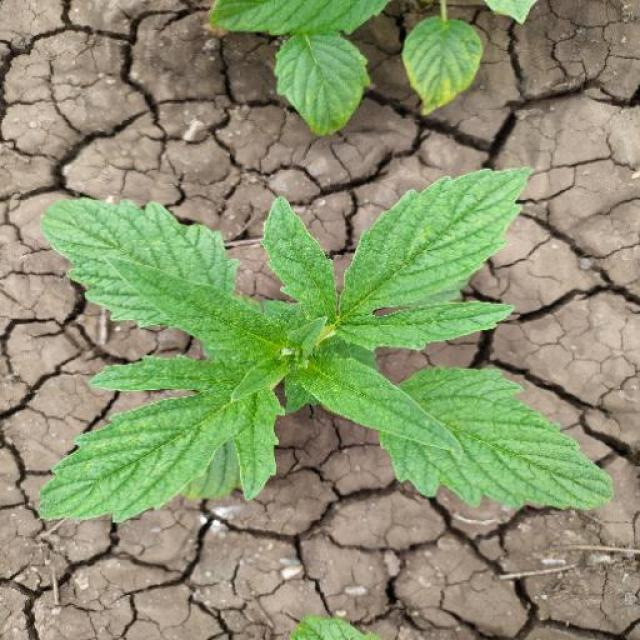crop: (11, 169, 628, 556)
